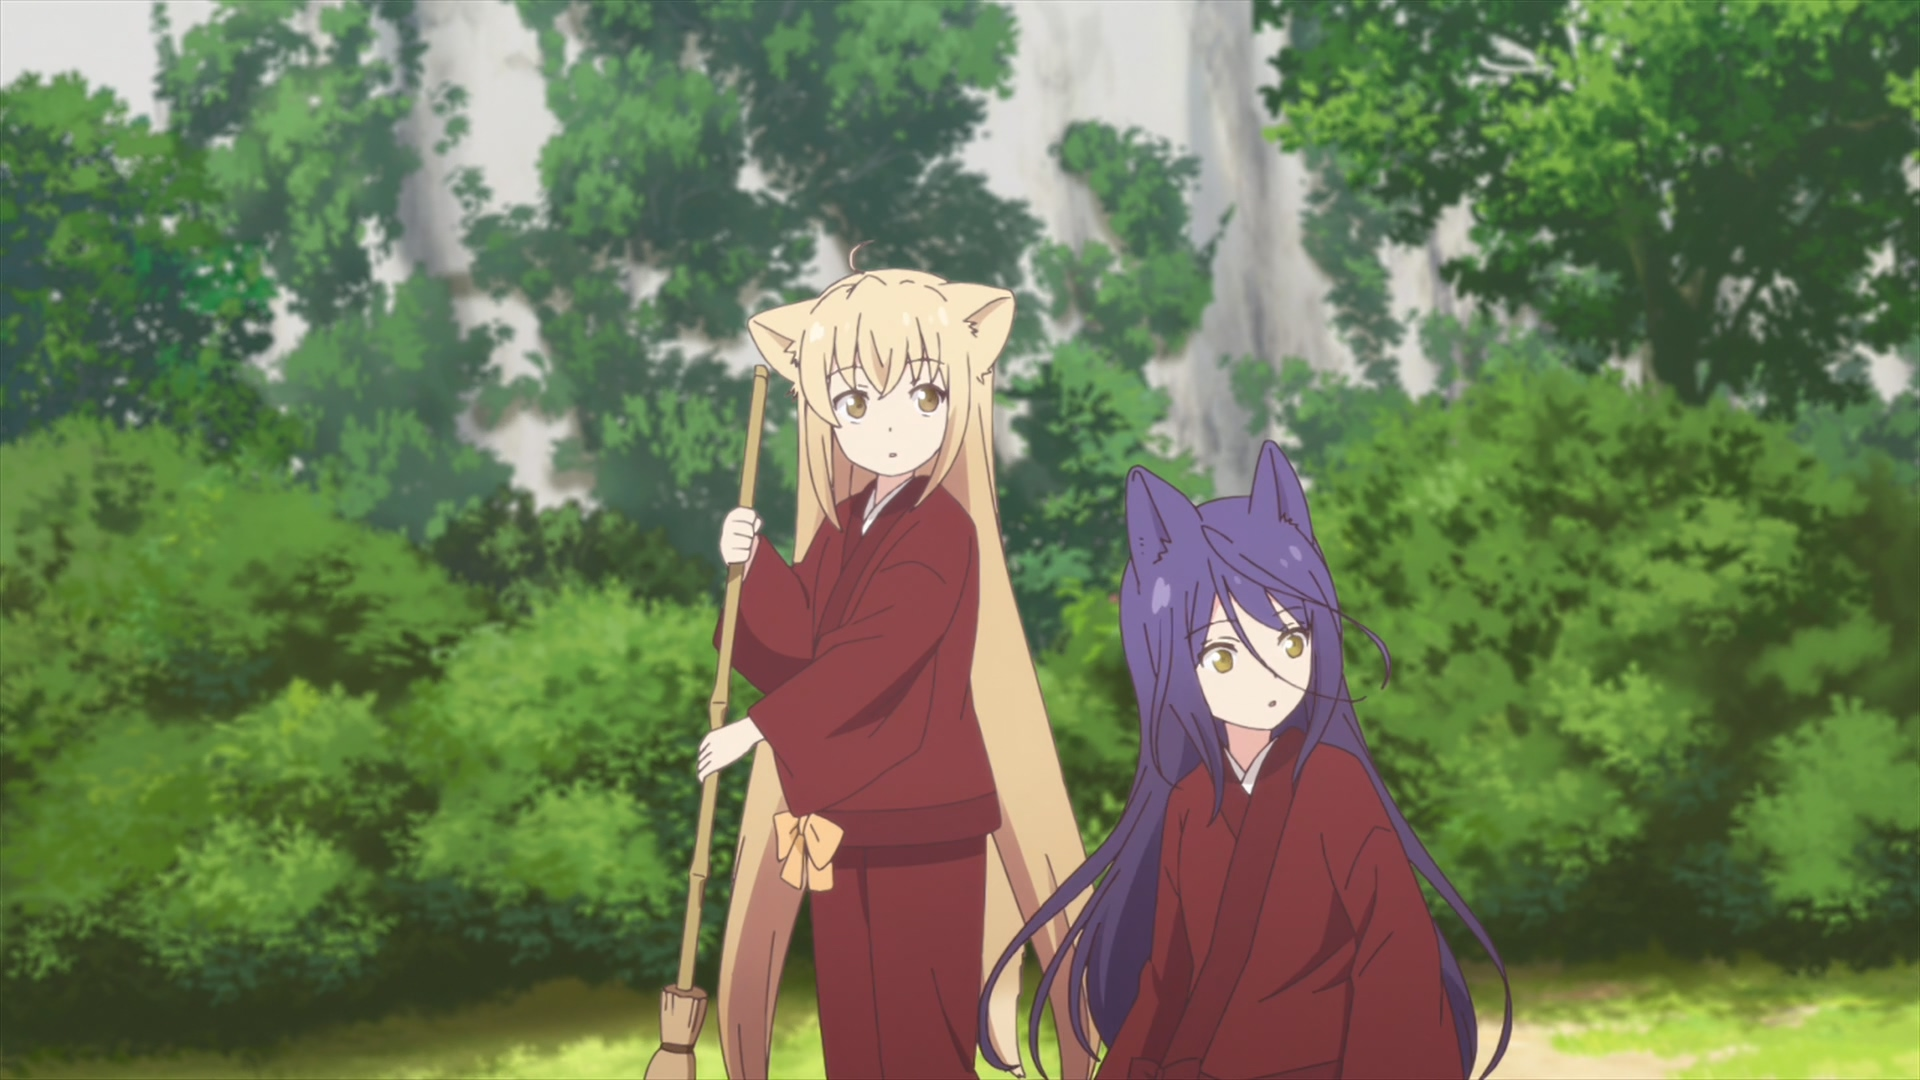柚: (696, 237, 1101, 1080)
皋: (978, 442, 1516, 1080)
